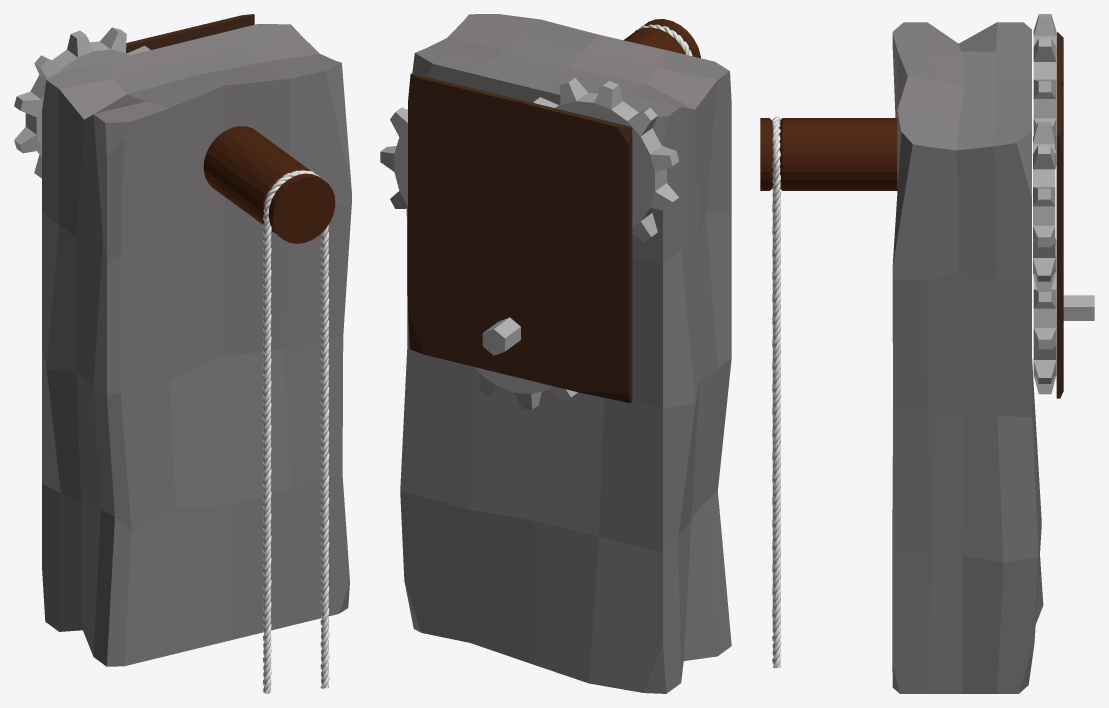
Rendered from FBX_ENV_RUIN_MECHANIK_OHNE_ANIMATION_OhneRad.fbx.
3 views of the same model, side by side, from view 1: azimuth 30°, elevation 25°; view 2: azimuth 150°, elevation 25°; view 3: azimuth 270°, elevation 25° (orthographic). The views are drawn at different scales.
Visible parts, largest first — view 1: Cube.004; view 2: Cube.004; view 3: Cube.004.
Boxes of the visible parts, <box> form: Cube.004: <box>14,14,351,693</box>; Cube.004: <box>380,14,731,693</box>; Cube.004: <box>760,14,1094,693</box>.
Size of the model in its own units: 69.24 by 140 by 71.42.
